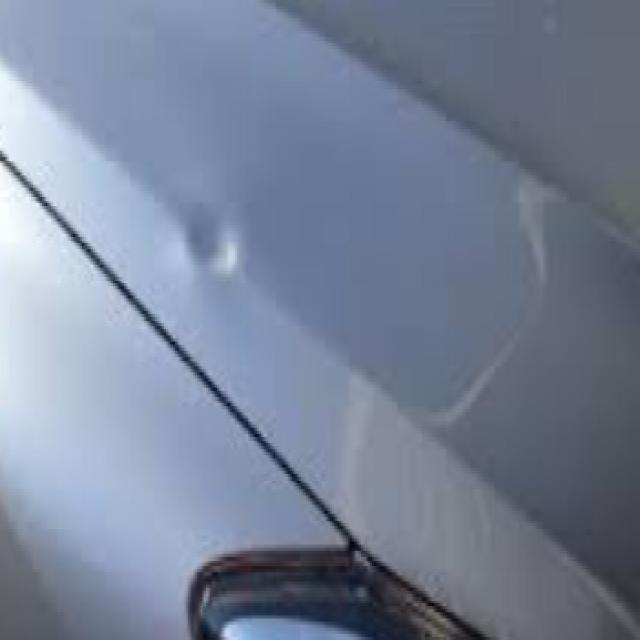dents: (179, 188, 247, 314)
